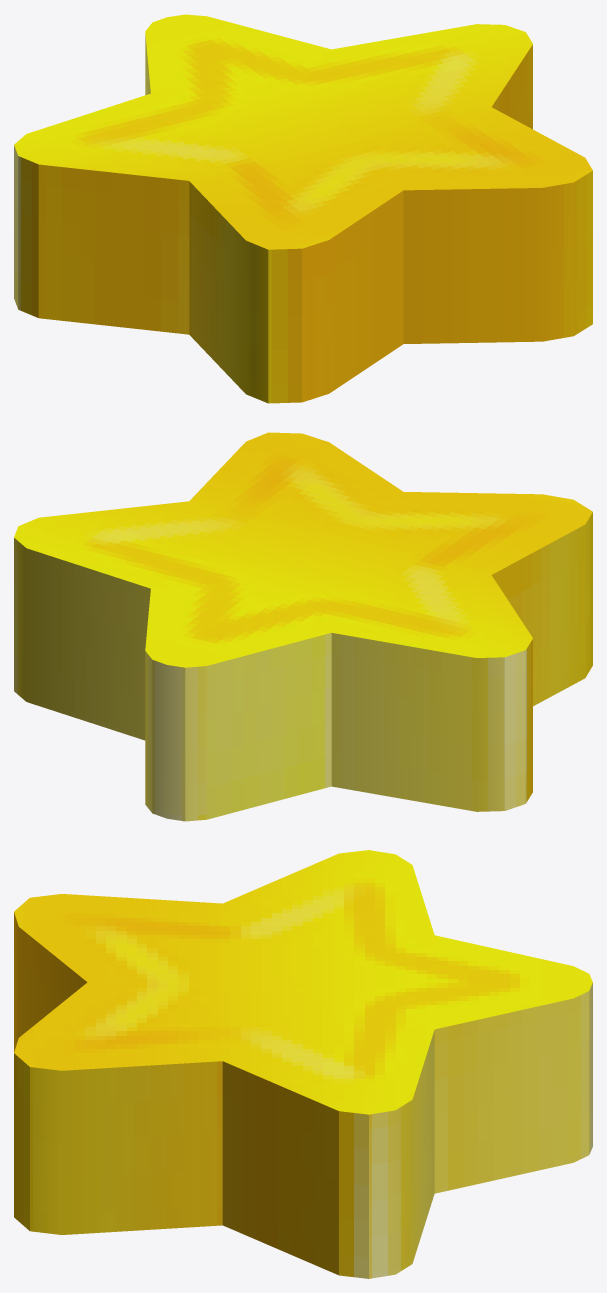
The model's file is items_star_s.FBX.
The picture shows the model from 3 angles, top to bottom: view 1: azimuth 30°, elevation 25°; view 2: azimuth 150°, elevation 25°; view 3: azimuth 270°, elevation 25°; orthographic projection. The views are drawn at different scales.
Visible parts, largest first — view 1: items_star_s; view 2: items_star_s; view 3: items_star_s.
Boxes of the visible parts, x1,y1,x2,y2 form: items_star_s: (14,14,592,403); items_star_s: (14,432,592,821); items_star_s: (14,850,592,1278).
Bounding box in the file's own units: 28.98 × 8.39 × 26.79.
